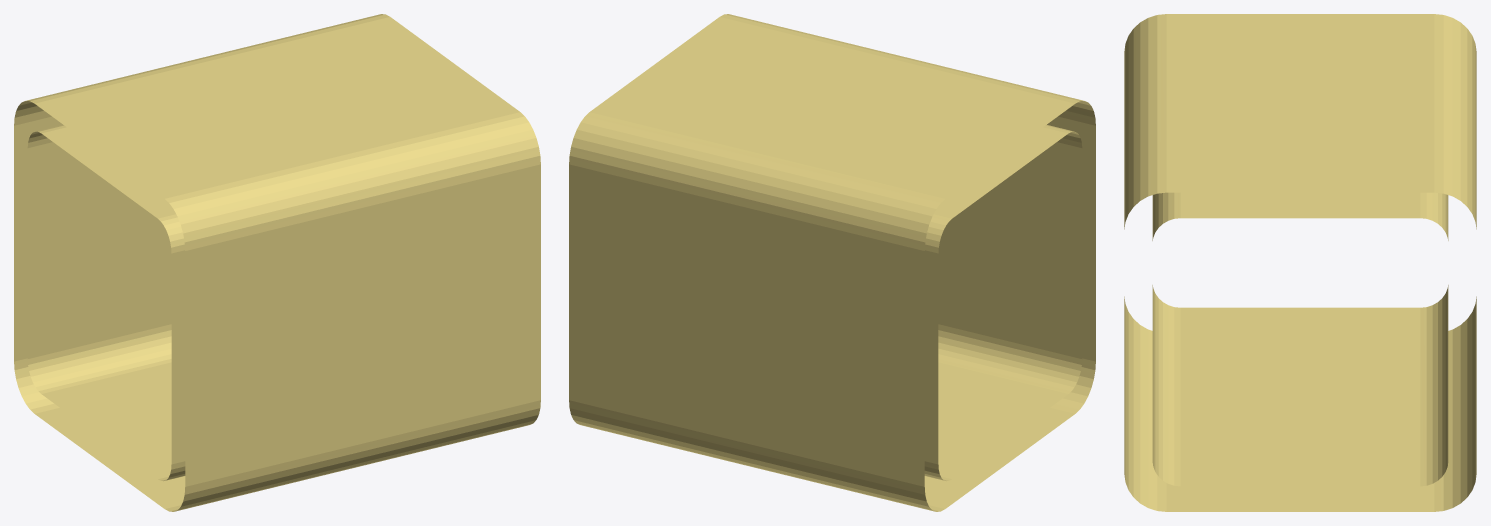
Rendered from RailRight_13.obj.
3 renders of one model, left to right at view 1: azimuth 30°, elevation 25°; view 2: azimuth 150°, elevation 25°; view 3: azimuth 270°, elevation 25°, orthographic. The views are drawn at different scales.
Visible parts, largest first — view 1: RailRight_13_15; view 2: RailRight_13_15; view 3: RailRight_13_15.
Boxes of the visible parts, x1,y1,x2,y2 form: RailRight_13_15: [14, 14, 540, 511]; RailRight_13_15: [569, 14, 1095, 511]; RailRight_13_15: [1124, 14, 1476, 511].
Bounding box in the file's own units: 0.03 × 0.025 × 0.025.
